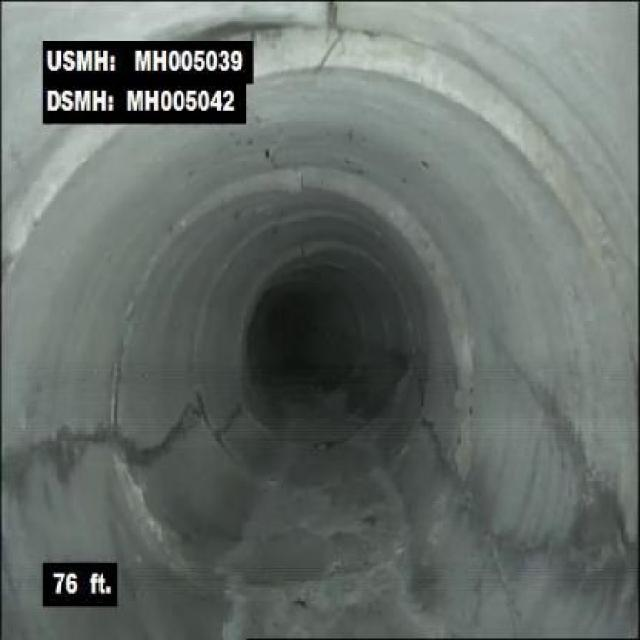Crack: (463, 515, 562, 620), (5, 420, 101, 482), (131, 405, 200, 472), (320, 2, 346, 29)
Joint offset: (494, 79, 618, 268), (260, 29, 488, 108), (311, 149, 423, 240)
